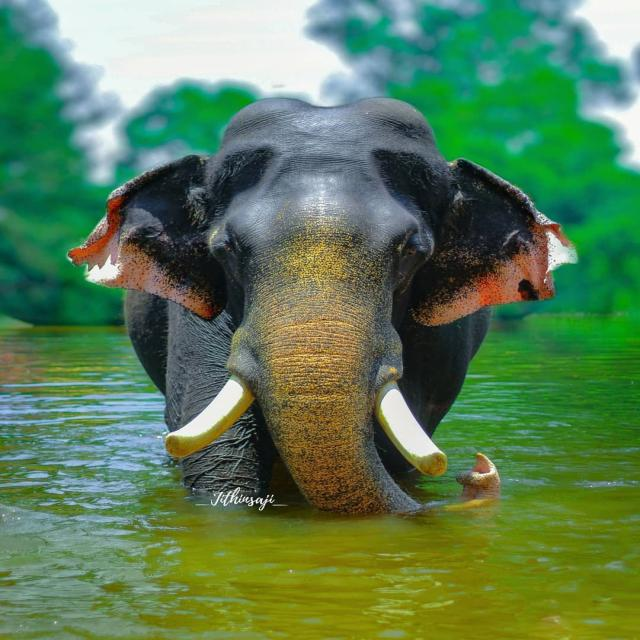Elephant: (66, 91, 584, 520)
